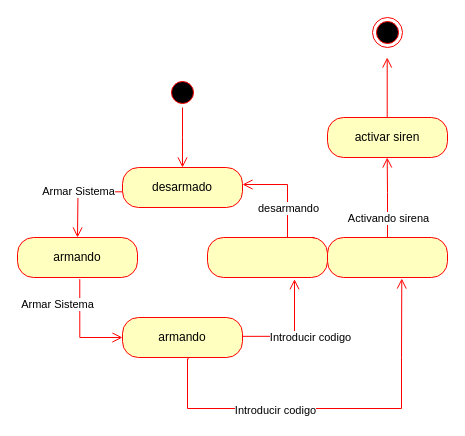
Image size: 465x436. Some labels were removed from this diagram. Here are the shapes that lost their labels. From the top down, the centre of each, then its label:
the point at 267,257: codigo correcto
the point at 387,257: codigo incorrecto
